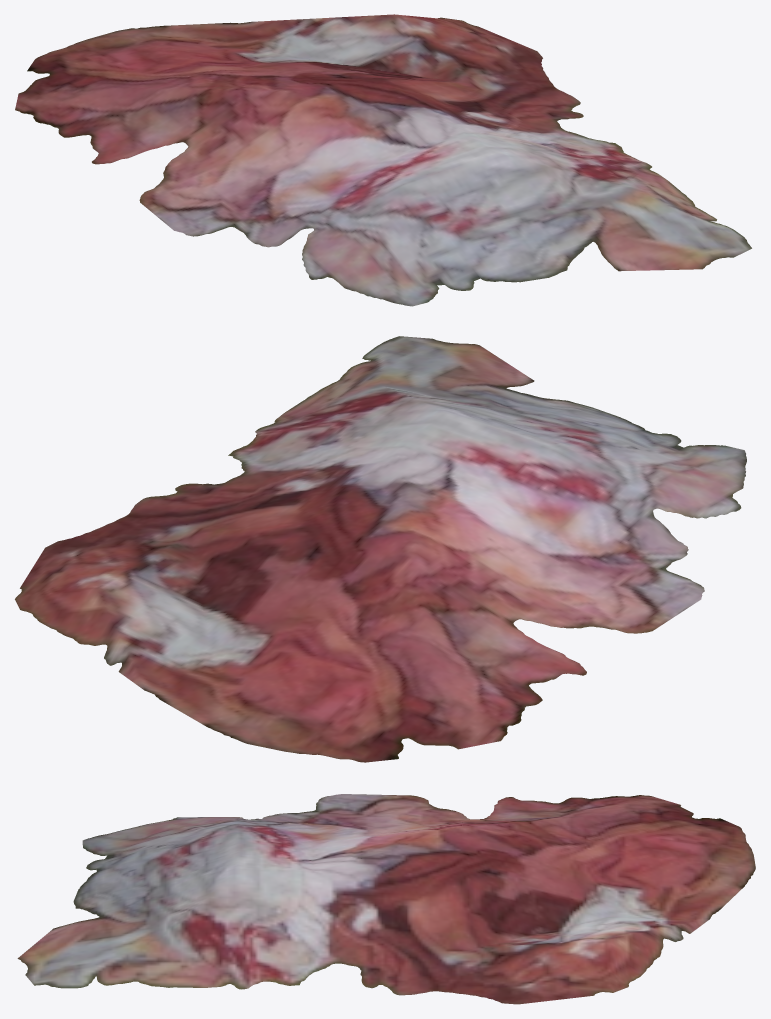
The model's file is freezer_cloth_2.FBX.
The picture shows the model from 3 angles, top to bottom: view 1: azimuth 30°, elevation 25°; view 2: azimuth 150°, elevation 25°; view 3: azimuth 270°, elevation 25°; orthographic projection. The views are drawn at different scales.
Parts seen in each view (by area): view 1: freezer_cloth_2; view 2: freezer_cloth_2; view 3: freezer_cloth_2.
Part boxes in pixels (box(x1,y1,x2,y2)): freezer_cloth_2: box(15, 14, 751, 306); freezer_cloth_2: box(15, 336, 746, 762); freezer_cloth_2: box(17, 794, 755, 1004).
Bounding box in the file's own units: 155 × 16.67 × 231.
